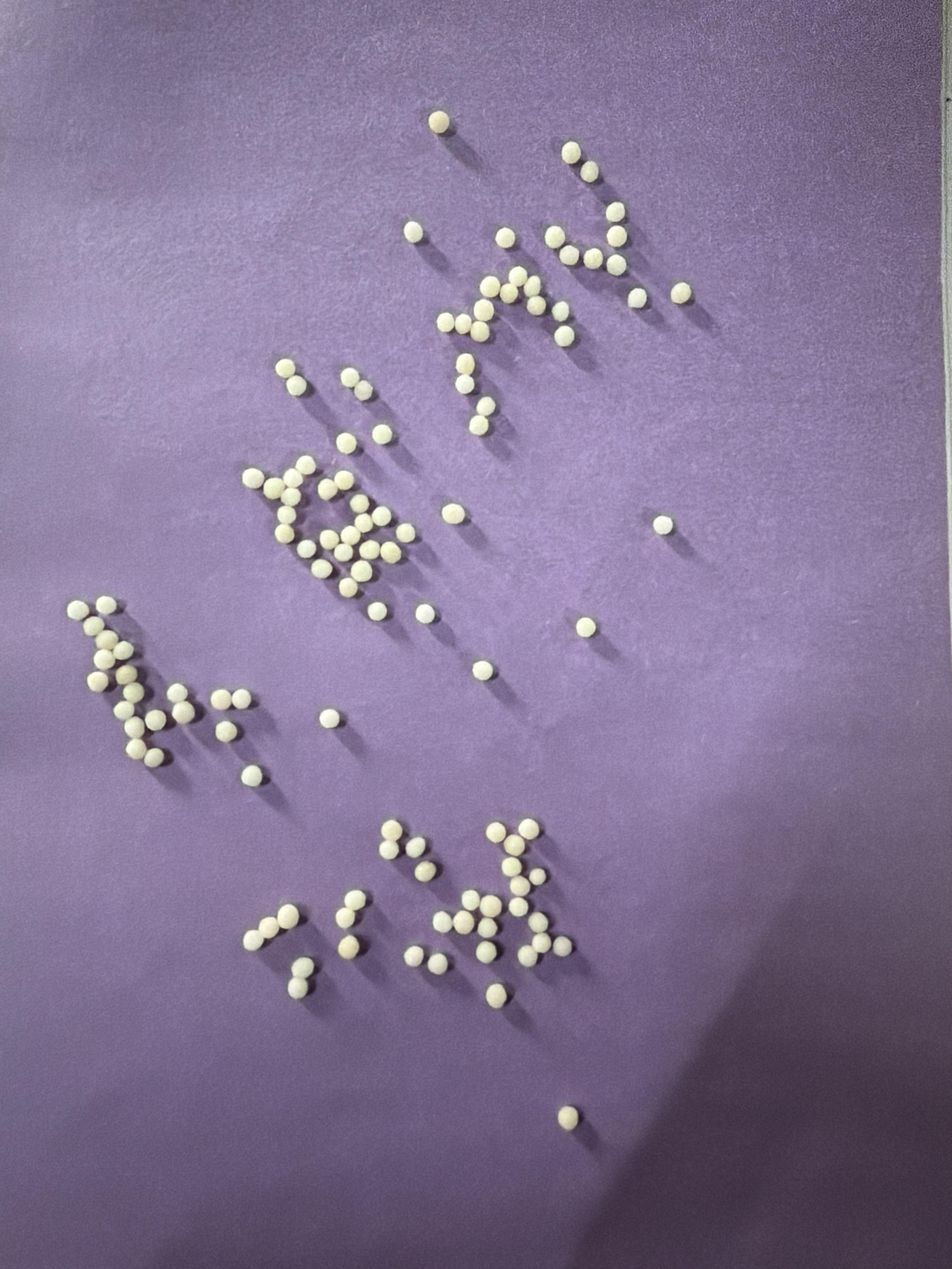pill: (286, 0, 475, 176), (640, 504, 676, 542), (575, 617, 609, 643), (242, 762, 269, 787), (471, 663, 498, 686), (492, 227, 524, 246), (553, 328, 585, 347), (239, 922, 262, 946), (428, 110, 449, 134), (561, 141, 581, 165), (404, 220, 424, 244), (562, 1104, 583, 1126), (559, 244, 579, 266), (583, 247, 603, 269), (579, 160, 598, 182), (336, 528, 363, 543), (475, 298, 495, 318), (518, 814, 536, 835), (452, 369, 472, 387), (513, 947, 538, 961), (506, 831, 521, 853), (243, 463, 261, 481), (292, 374, 307, 395), (315, 480, 336, 495), (128, 738, 143, 759), (479, 921, 500, 936), (407, 836, 424, 854), (264, 915, 281, 933), (359, 382, 378, 398), (603, 252, 623, 267), (410, 944, 425, 964), (396, 531, 417, 545), (411, 865, 432, 879), (367, 600, 384, 617), (479, 395, 497, 411), (171, 702, 189, 718), (432, 953, 448, 971), (447, 504, 469, 517), (543, 224, 562, 239), (369, 509, 388, 524), (432, 914, 447, 933), (610, 216, 620, 244), (282, 902, 296, 922), (272, 362, 297, 373), (293, 963, 318, 974), (81, 675, 102, 688), (297, 448, 312, 466), (336, 478, 355, 492), (512, 897, 528, 913), (554, 301, 569, 318), (352, 516, 369, 531), (607, 206, 628, 218), (116, 640, 130, 658), (503, 268, 528, 278), (421, 597, 432, 619), (677, 277, 689, 297), (473, 411, 485, 431), (368, 420, 384, 435), (340, 575, 356, 590), (552, 936, 568, 951), (218, 720, 232, 737), (512, 879, 529, 893), (455, 917, 472, 931), (504, 289, 523, 301), (338, 363, 353, 378), (382, 819, 397, 834), (463, 890, 478, 905), (484, 897, 499, 912), (236, 691, 249, 708), (260, 484, 280, 495), (346, 889, 364, 901), (335, 908, 353, 920), (293, 980, 311, 992), (98, 596, 113, 610), (451, 355, 470, 366), (95, 649, 108, 665), (487, 982, 500, 998), (474, 325, 491, 337), (316, 555, 333, 567), (210, 692, 224, 706), (66, 600, 79, 615), (281, 472, 305, 480), (149, 746, 160, 763), (534, 869, 545, 886), (434, 311, 446, 326), (489, 823, 500, 839), (479, 282, 496, 292), (113, 700, 127, 712), (124, 719, 138, 731), (144, 713, 158, 725), (166, 684, 181, 695), (277, 503, 291, 514), (125, 687, 139, 698), (281, 491, 298, 500), (349, 567, 366, 576), (579, 161, 594, 171), (506, 864, 521, 874), (97, 634, 109, 646), (335, 433, 348, 444), (277, 527, 290, 538), (535, 934, 546, 947), (483, 940, 494, 953), (380, 547, 394, 557), (632, 288, 640, 305), (347, 499, 366, 506), (479, 916, 490, 928), (530, 911, 541, 923), (527, 297, 540, 307), (339, 544, 352, 554), (361, 546, 374, 556), (118, 665, 128, 678), (322, 533, 336, 542), (326, 531, 337, 541), (514, 896, 524, 907), (528, 275, 535, 290), (328, 709, 334, 725), (88, 620, 97, 630), (454, 321, 465, 328), (298, 546, 310, 552), (384, 844, 389, 849)
